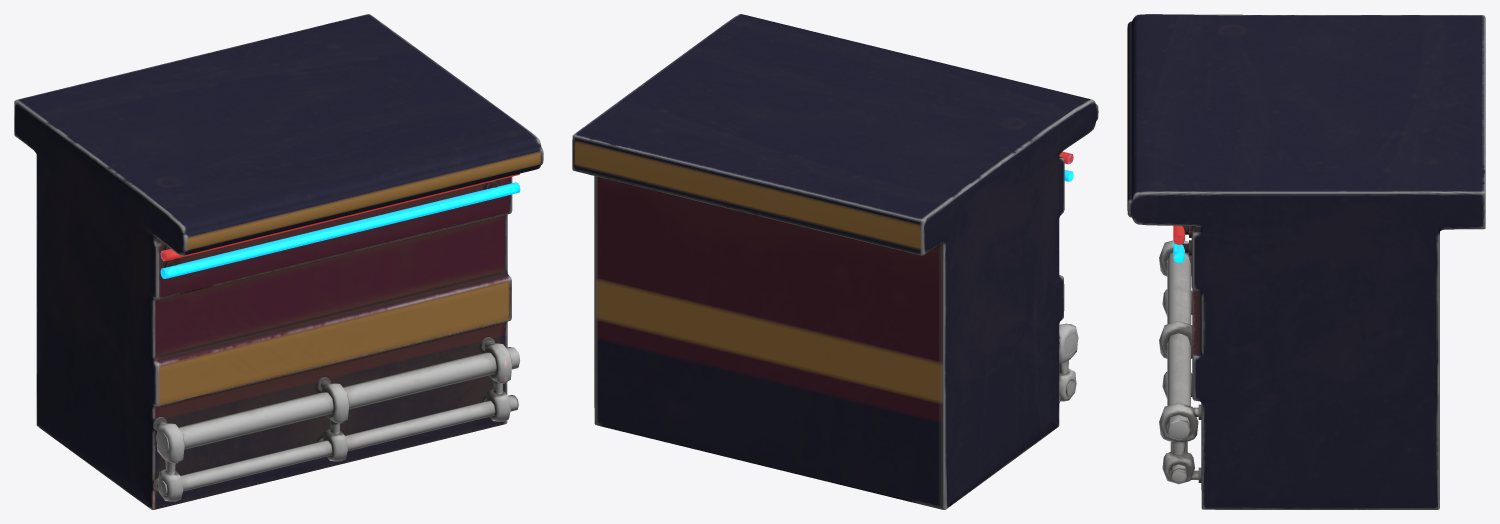
File: SM_Counter1.fbx
3 views of the same model, side by side, from view 1: azimuth 30°, elevation 25°; view 2: azimuth 150°, elevation 25°; view 3: azimuth 270°, elevation 25° (orthographic). The views are drawn at different scales.
Parts seen in each view (by area): view 1: SM_Counter1_LOD0; view 2: SM_Counter1_LOD0; view 3: SM_Counter1_LOD0.
Boxes of the visible parts, box(x1,y1,x2,y2) form: SM_Counter1_LOD0: box(14, 14, 543, 509); SM_Counter1_LOD0: box(572, 14, 1098, 509); SM_Counter1_LOD0: box(1127, 14, 1485, 509).
Size of the model in its own units: 145 by 122 by 119.
Materials: 1 (1 with a texture image).
